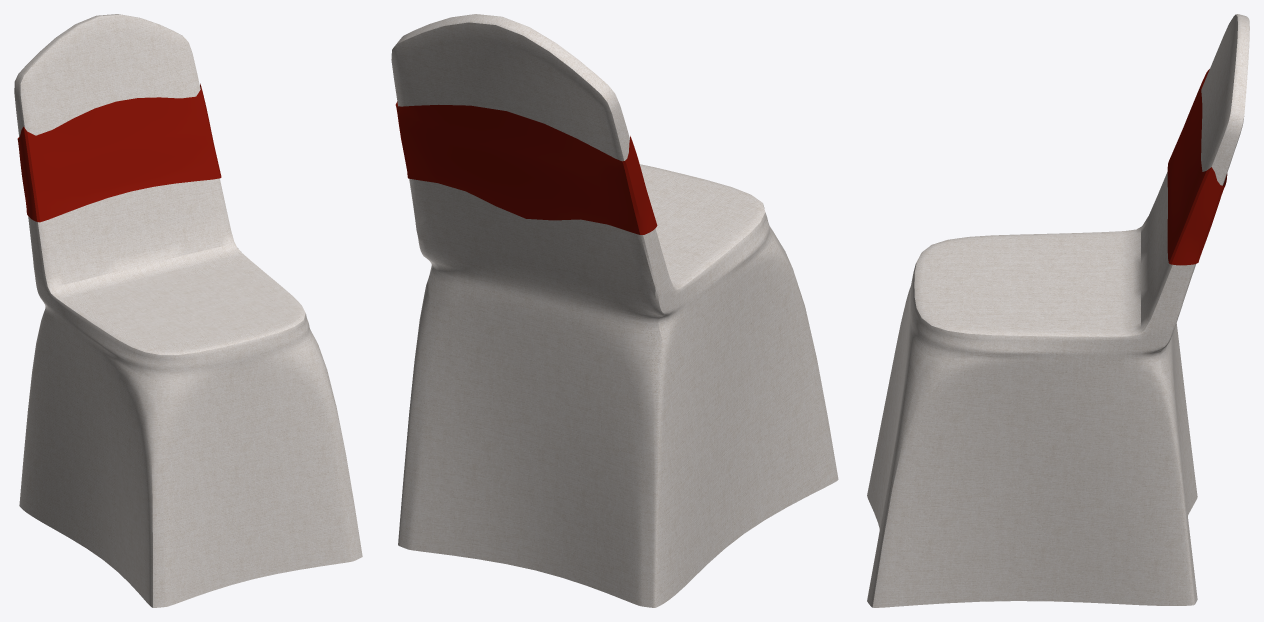
File: single_chair.glb
3 renders of one model, left to right at view 1: azimuth 30°, elevation 25°; view 2: azimuth 150°, elevation 25°; view 3: azimuth 270°, elevation 25°, orthographic. The views are drawn at different scales.
Parts seen in each view (by area): view 1: chair, Cube.019; view 2: chair, Cube.019; view 3: chair, Cube.019.
Boxes of the visible parts, x1,y1,x2,y2 form: chair: (14,14,362,607); Cube.019: (17,83,221,222); chair: (391,14,838,607); Cube.019: (395,101,657,234); chair: (867,14,1249,607); Cube.019: (1167,69,1227,265).
Size of the model in its own units: 0.5094 by 1.04 by 0.6894.
2 materials, 1 textured.
